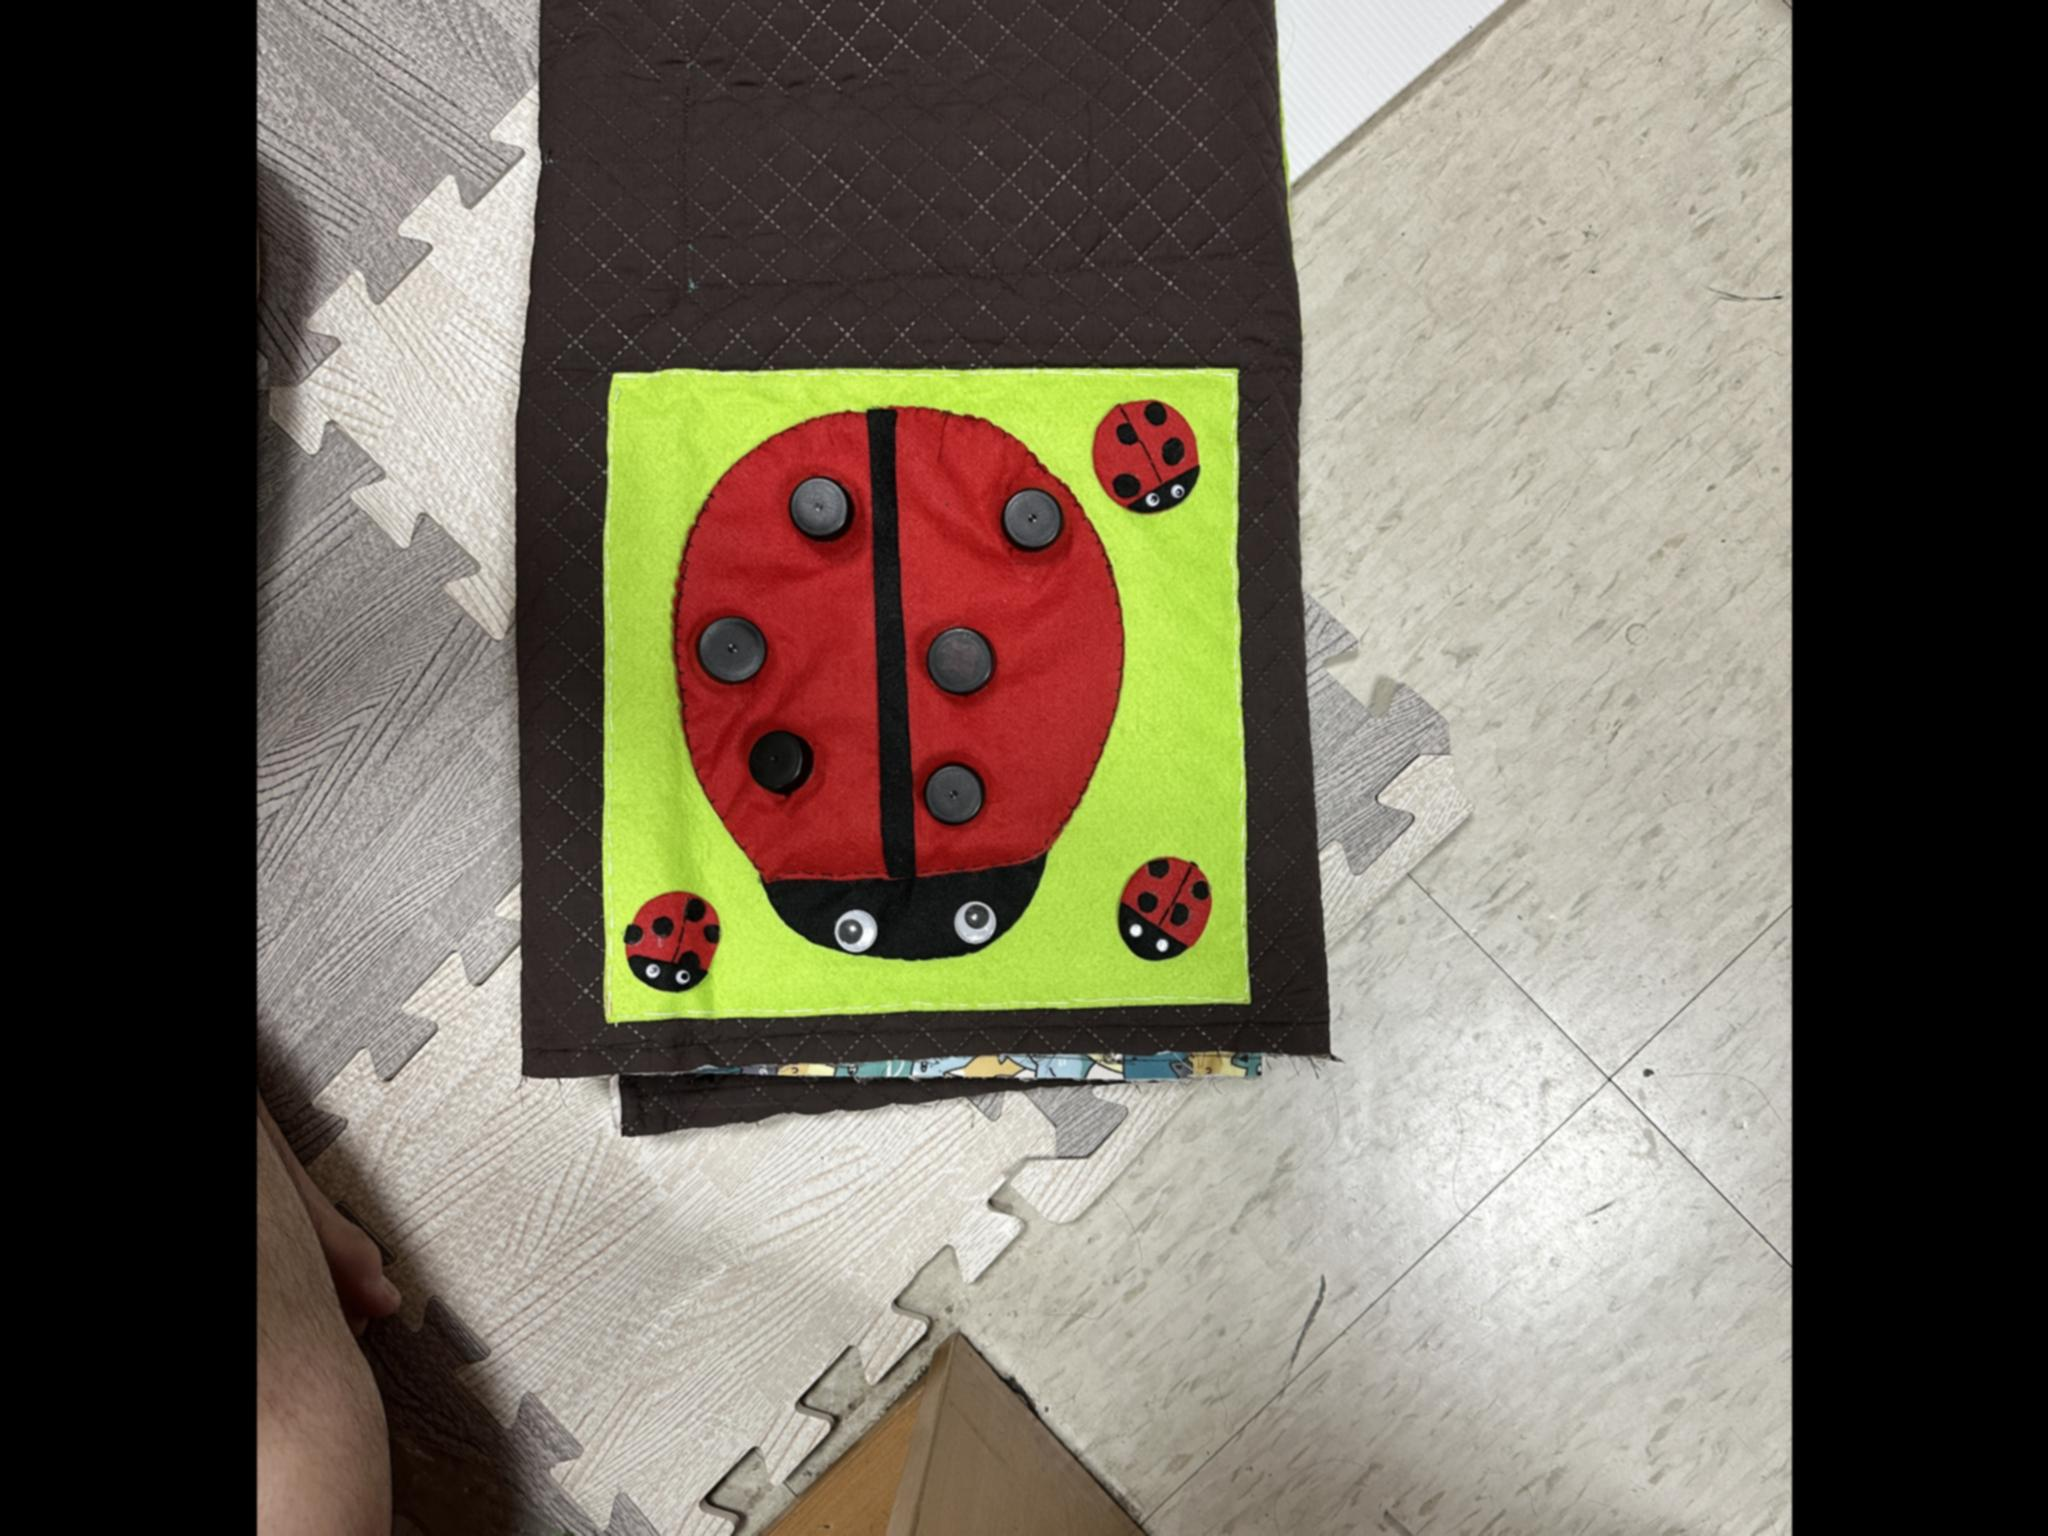cap_ok: (913, 611, 1006, 710), (914, 747, 1001, 839), (780, 463, 864, 558), (735, 718, 819, 805), (690, 605, 769, 692), (993, 479, 1071, 565)
